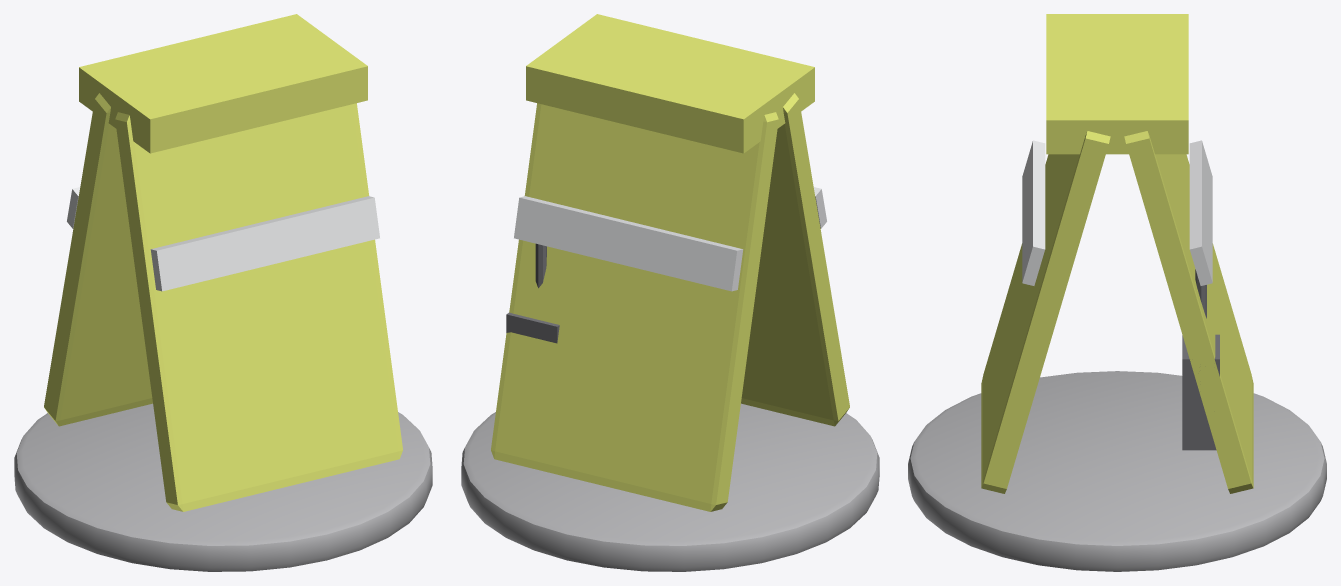
Rendered from token-vest.glb.
3 views of the same model, side by side, from view 1: azimuth 30°, elevation 25°; view 2: azimuth 150°, elevation 25°; view 3: azimuth 270°, elevation 25° (orthographic).
Parts seen in each view (by area): view 1: vest_panel.001, token_base, vest_shoulder, vest_panel, vest_stripe.003; view 2: vest_panel, token_base, vest_shoulder, vest_panel.001, vest_stripe.001, vest_radio; view 3: token_base, vest_shoulder, vest_panel.001, vest_panel, vest_stripe.001, vest_stripe.003, vest_radio.
Part boxes in pixels (left/top/right/bottom): vest_panel.001: left=115, top=103, right=402, bottom=511; token_base: left=14, top=403, right=432, bottom=571; vest_shoulder: left=79, top=14, right=367, bottom=153; vest_panel: left=44, top=93, right=152, bottom=426; vest_stripe.003: left=150, top=196, right=379, bottom=291; vest_panel: left=491, top=103, right=778, bottom=511; token_base: left=461, top=403, right=879, bottom=571; vest_shoulder: left=526, top=14, right=814, bottom=153; vest_panel.001: left=741, top=93, right=849, bottom=426; vest_stripe.001: left=514, top=196, right=743, bottom=291; vest_radio: left=506, top=312, right=559, bottom=343; token_base: left=908, top=371, right=1326, bottom=571; vest_shoulder: left=1046, top=14, right=1188, bottom=154; vest_panel.001: left=981, top=131, right=1110, bottom=493; vest_panel: left=1124, top=131, right=1253, bottom=493; vest_stripe.001: left=1189, top=140, right=1212, bottom=285; vest_stripe.003: left=1022, top=140, right=1045, bottom=285; vest_radio: left=1182, top=334, right=1219, bottom=450.
Bounding box in the file's own units: 1 × 1.1 × 1.
